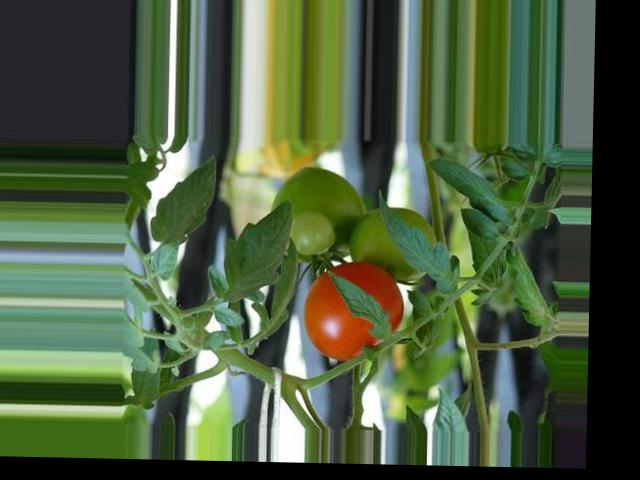tomato: (301, 261, 404, 362)
